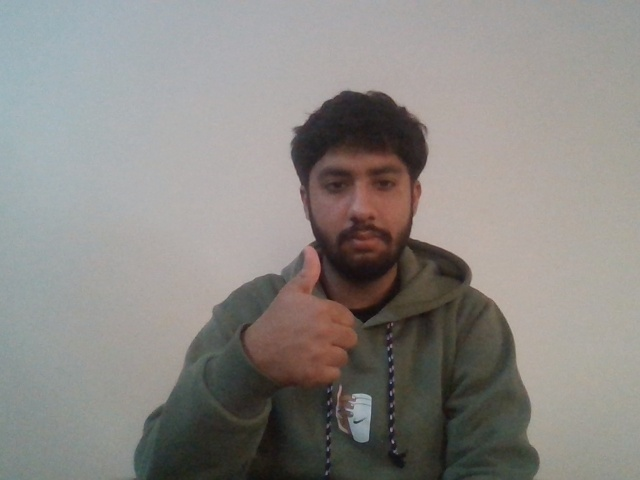Yes: (244, 246, 364, 386)
